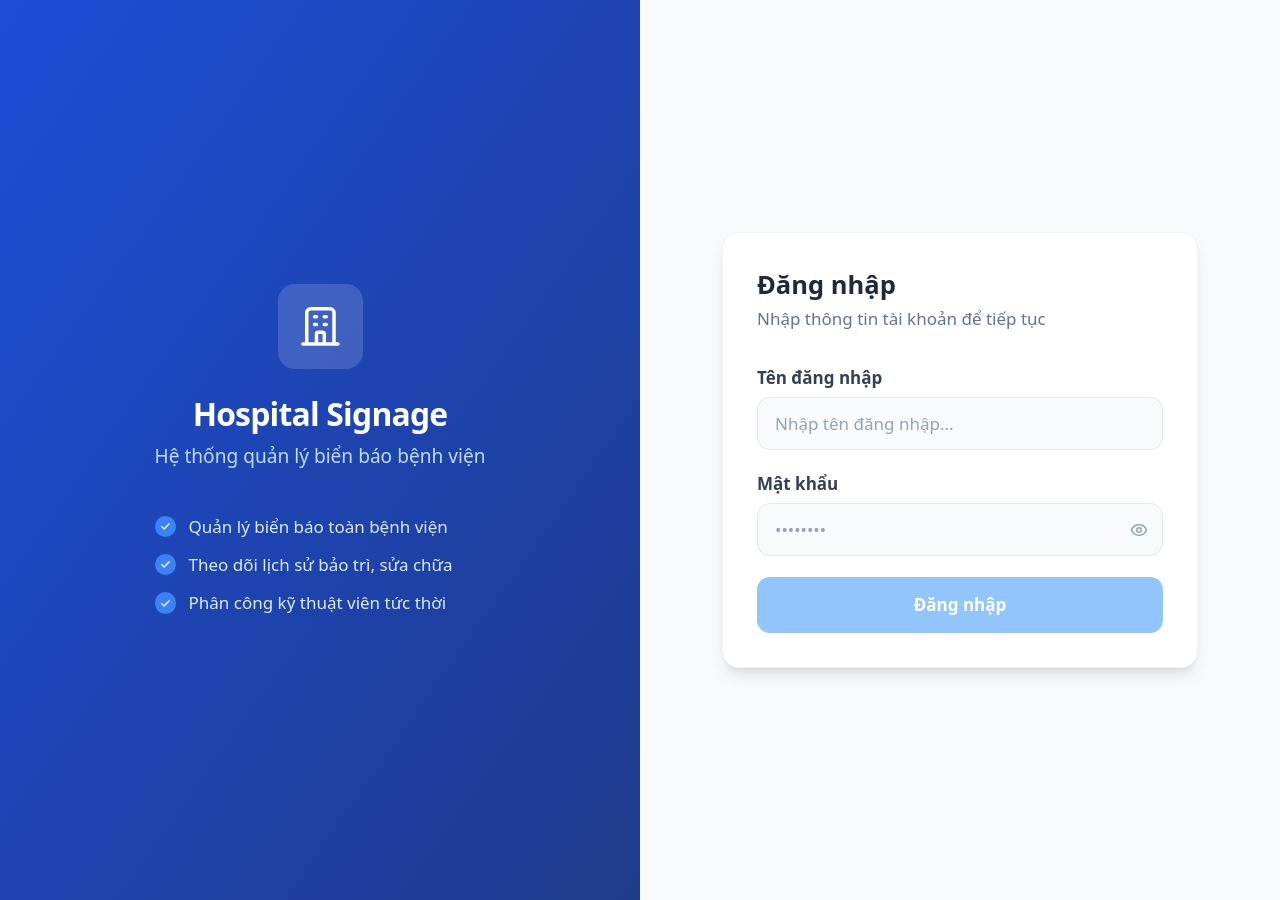
Test: LoginPage › shows fallback error when API returns no message
This screenshot has width=1280, height=900.
Type "admin" into the field with placeholder "Nhập tên đăng nhập...".
click(960, 424); type("admin")  # box 757,397 -> 1163,450
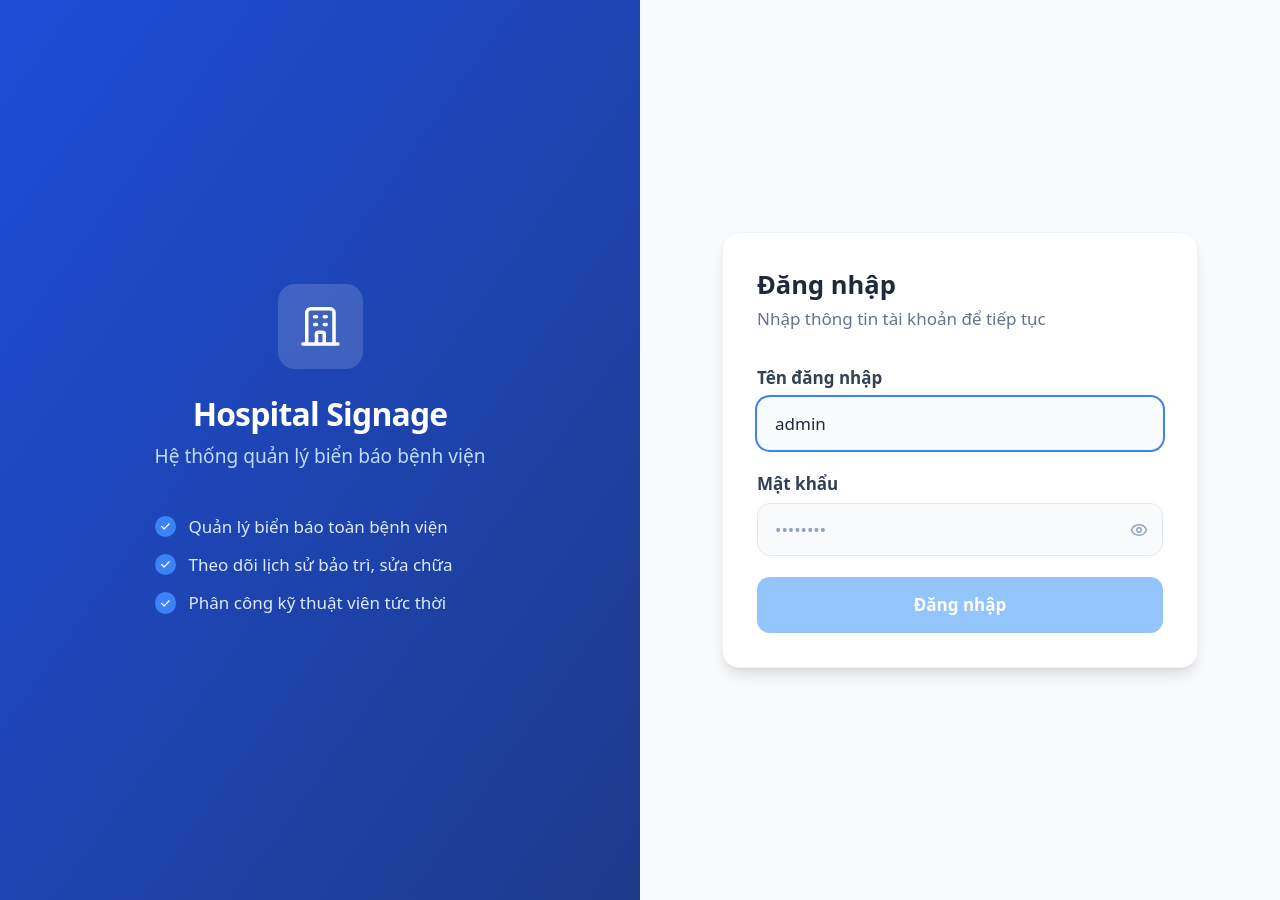
Type "wrongpass" into the password field with placeholder "••••••••".
click(960, 530); type("wrongpass")  # box 757,503 -> 1163,556
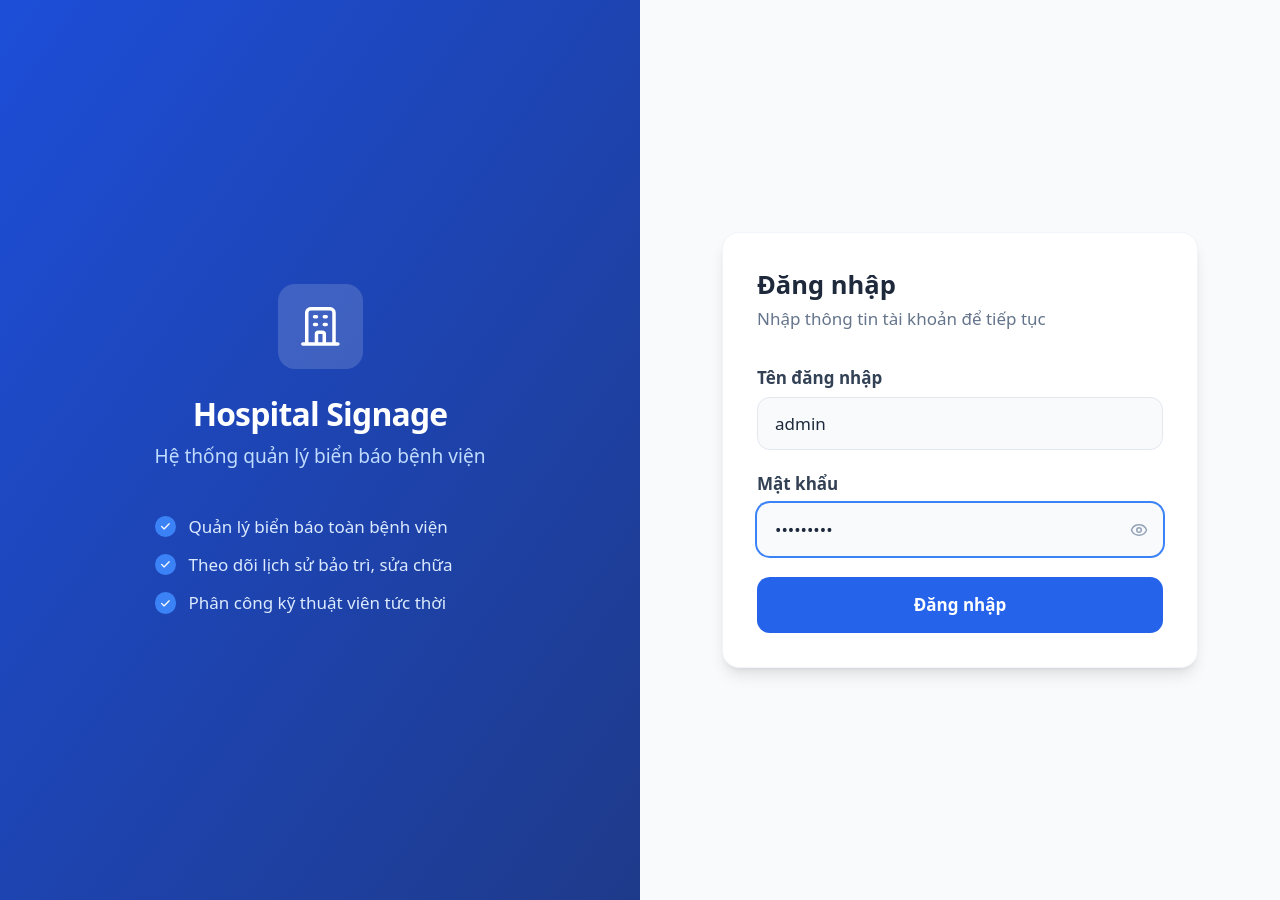
Click the button "Đăng nhập".
click(960, 605)  # box 757,577 -> 1163,633
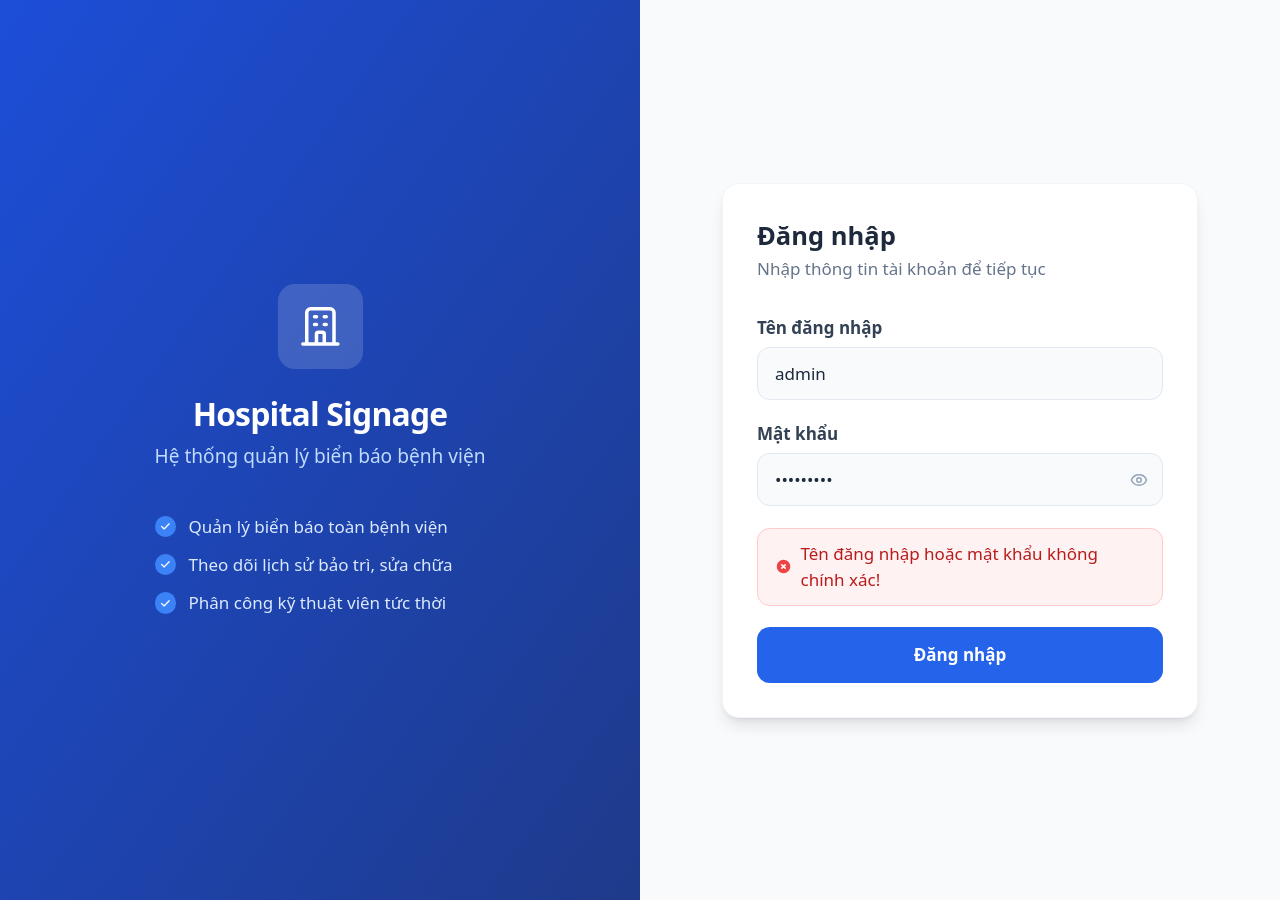
Expected: the text "Tên đăng nhập hoặc mật khẩu không chính xác!" is shown, 800,541 -> 1145,592
